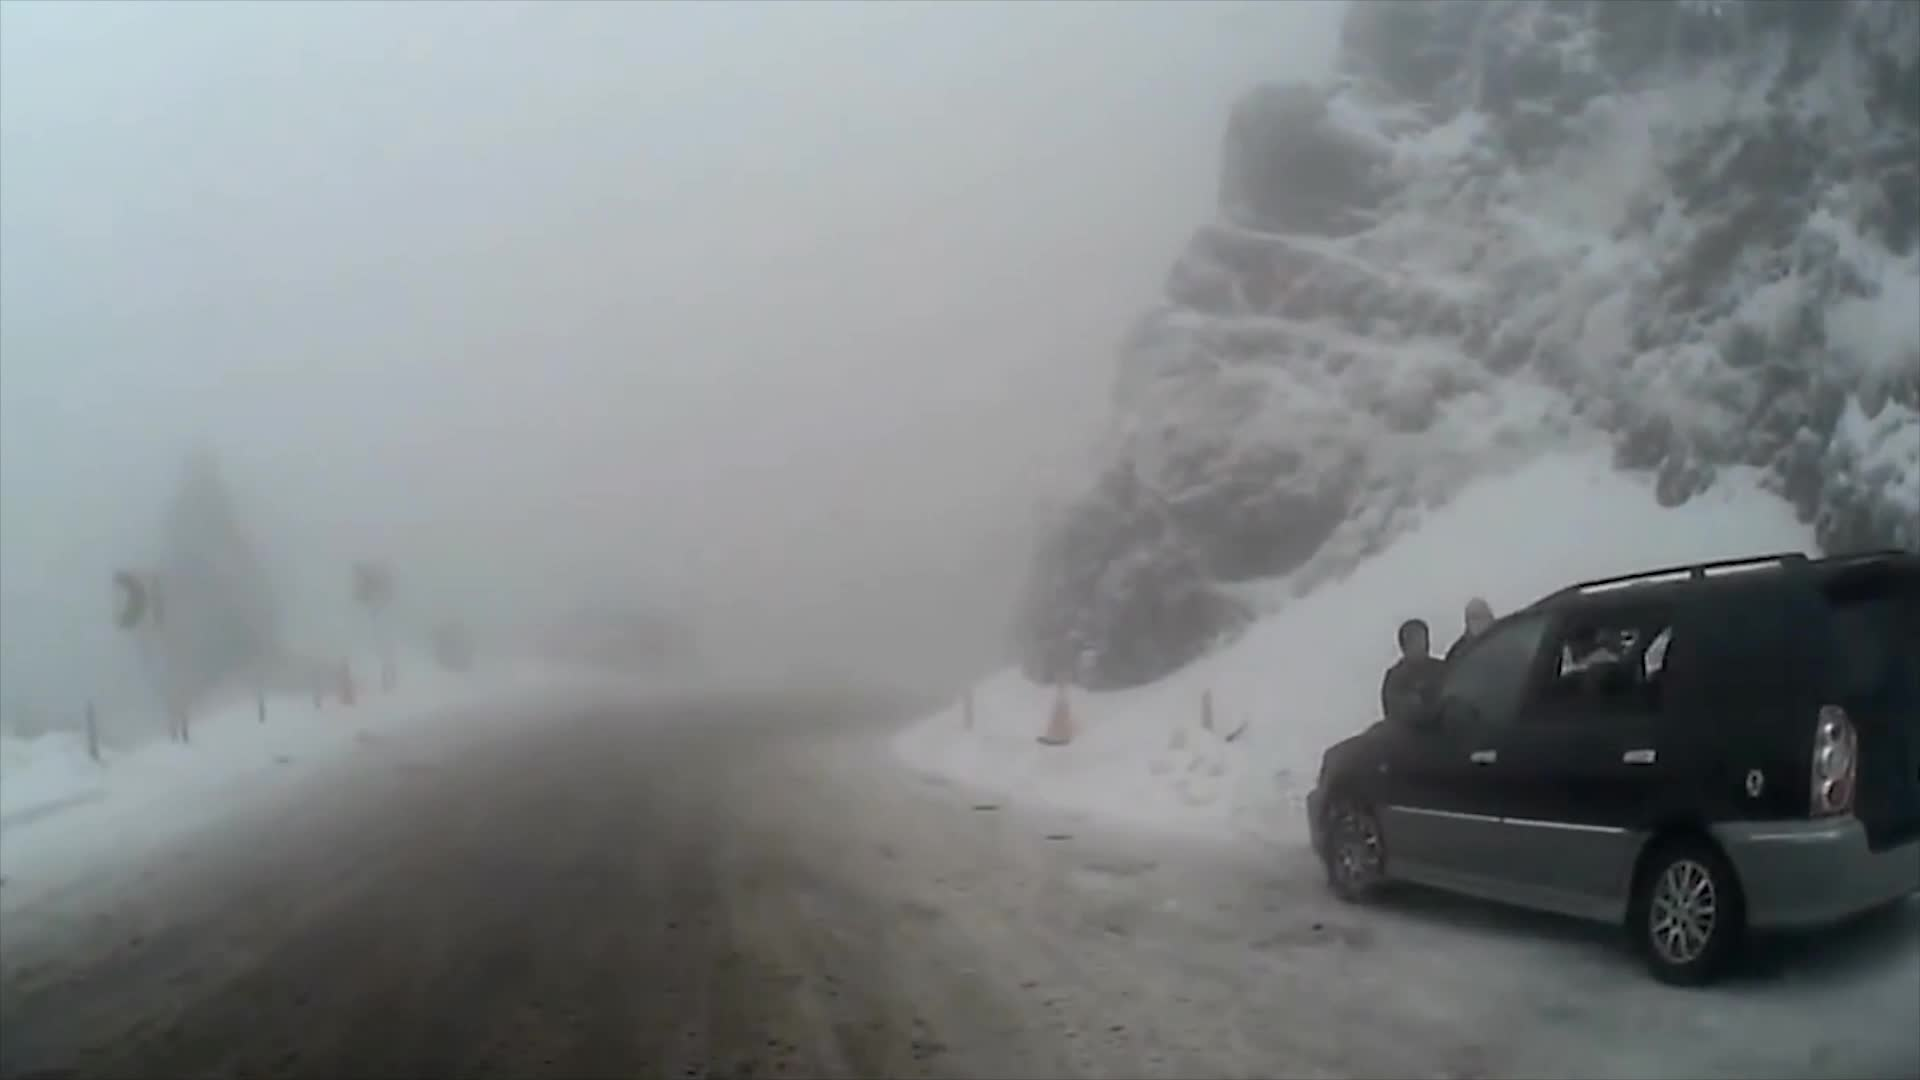pedestrian: (1379, 614, 1451, 865)
vehicle: (1304, 542, 1917, 991)
